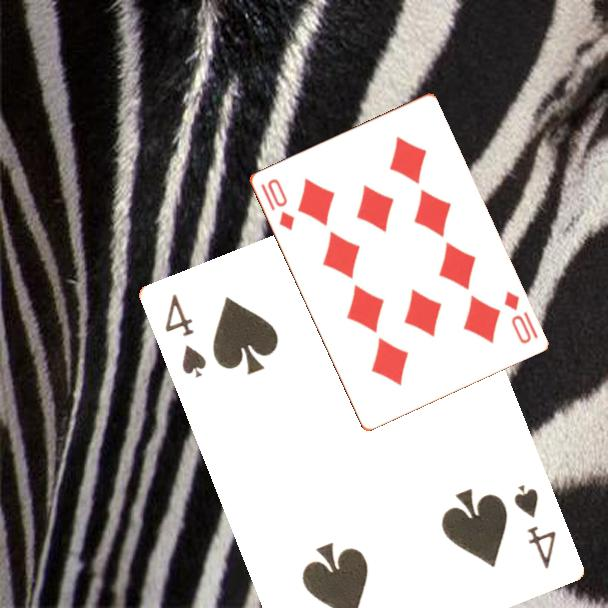d10: (500, 287, 541, 346), (257, 175, 297, 233)
s04: (509, 481, 559, 572), (160, 290, 209, 381)
